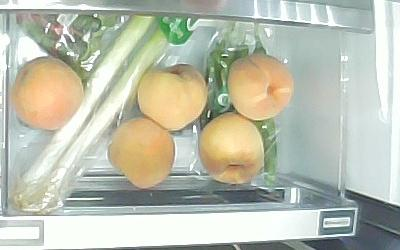peach: (13, 56, 83, 130), (107, 117, 177, 187), (135, 63, 207, 131), (198, 112, 264, 183), (225, 53, 293, 121)
